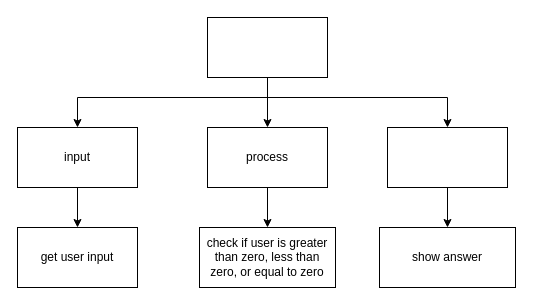
Some shapes in this 533 by 305 pixel diagram are drawn without their labels. Each missing label, with the centre of its shape:
output: the point at 447,157
positive, negative, or zero prgram: the point at 267,47
